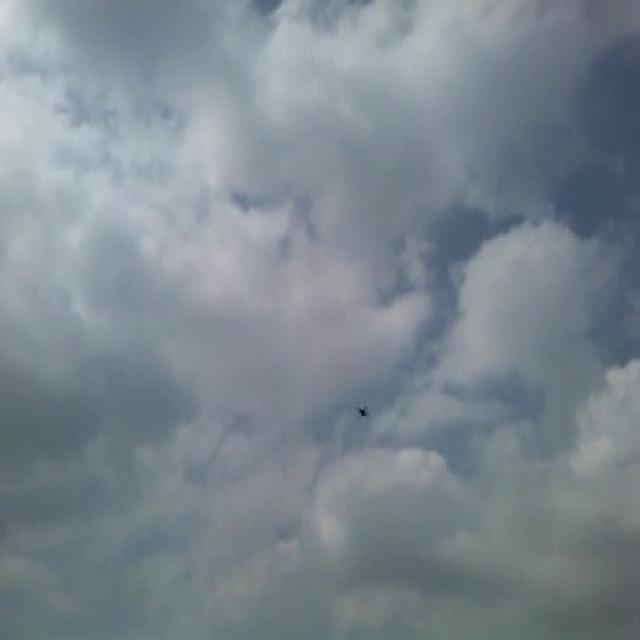drone: (355, 398, 371, 420)
